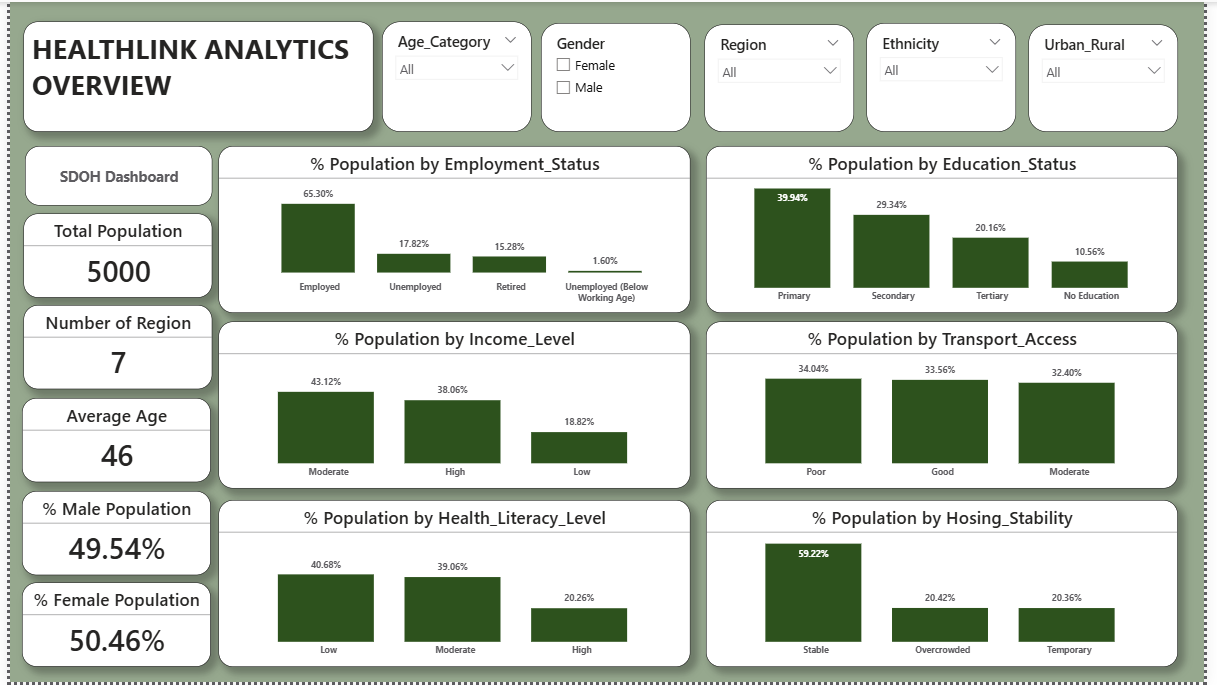

The page's visual inventory and layout, read from the dashboard file:
{"tool":"powerbi","page":{"name":"Overview","canvas":[1644,936],"ordinal":0},"visuals":[{"type":"textbox","box":[18,26,482,152],"z":0},{"type":"card","title":"Total Population","fields":{"Values":["Calculation.Total_Population"]},"box":[18,291.2,260,116],"z":1000},{"type":"card","title":"Number of Region","fields":{"Values":["Count(Health_Link1.Region)"]},"box":[18,418.4,260,116],"z":2000},{"type":"card","title":"Average Age","fields":{"Values":["Calculation.Average_Age"]},"box":[16,545.6,260,116],"z":3000},{"type":"card","title":"% Male Population","fields":{"Values":["Calculation.Male_Population(%)"]},"box":[16,672.8,260,116],"z":4000},{"type":"card","title":"% Female Population","fields":{"Values":["Calculation.Female_Population(%)"]},"box":[16,800,260,116],"z":5000},{"type":"columnChart","title":"% Population by Employment_Status","fields":{"Category":["Health_Link1.Employment_Status"],"Y":["CountNonNull(Health_Link1.Id)"]},"box":[287.4,198.3,650,230],"z":6000},{"type":"columnChart","title":"% Population by Education_Status","fields":{"Category":["Health_Link1.Educational_Status"],"Y":["CountNonNull(Health_Link1.Id)"]},"box":[958,198.3,650,230],"z":7000},{"type":"columnChart","title":"% Population by Income_Level","fields":{"Category":["Health_Link1.Income_Level"],"Y":["CountNonNull(Health_Link1.Id)"]},"box":[288,440,650,230],"z":8000},{"type":"columnChart","title":"% Population by Transport_Access","fields":{"Category":["Health_Link1.Transport_Access"],"Y":["CountNonNull(Health_Link1.Id)"]},"box":[958,440,650,230],"z":9000},{"type":"columnChart","title":"% Population by Health_Literacy_Level","fields":{"Category":["Health_Link1.Health_Literacy"],"Y":["CountNonNull(Health_Link1.Id)"]},"box":[288,685,650,230],"z":10000},{"type":"columnChart","title":"% Population by Hosing_Stability","fields":{"Category":["Health_Link1.Housing_Stability"],"Y":["CountNonNull(Health_Link1.Id)"]},"box":[958,685,650,230],"z":11000},{"type":"slicer","fields":{"Values":["Health_Link1.Age_Category"]},"box":[512,26,206,152],"z":12000},{"type":"slicer","fields":{"Values":["Health_Link1.Gender"]},"box":[732,28,206,150],"z":13000},{"type":"slicer","fields":{"Values":["Health_Link1.Region"]},"box":[956,30,206,148],"z":14000},{"type":"slicer","fields":{"Values":["Health_Link1.Ethnicity"]},"box":[1180,28,206,150],"z":15000},{"type":"slicer","fields":{"Values":["Health_Link1.Urban_Rural"]},"box":[1402,30,206,148],"z":16000},{"type":"actionButton","box":[20,198,258,82],"z":17000}]}

Visuals, with their boxes in screenshot pixels (x1, y1, x2, y2), scaled from the page's 1644x936 canvas onto the 1217x685 screenshot:
textbox: (x1=13, y1=19, x2=370, y2=130)
"Total Population" card: (x1=13, y1=213, x2=206, y2=298)
"Number of Region" card: (x1=13, y1=306, x2=206, y2=391)
"Average Age" card: (x1=12, y1=399, x2=204, y2=484)
"% Male Population" card: (x1=12, y1=492, x2=204, y2=577)
"% Female Population" card: (x1=12, y1=585, x2=204, y2=670)
"% Population by Employment_Status" columnChart: (x1=213, y1=145, x2=694, y2=313)
"% Population by Education_Status" columnChart: (x1=709, y1=145, x2=1190, y2=313)
"% Population by Income_Level" columnChart: (x1=213, y1=322, x2=694, y2=490)
"% Population by Transport_Access" columnChart: (x1=709, y1=322, x2=1190, y2=490)
"% Population by Health_Literacy_Level" columnChart: (x1=213, y1=501, x2=694, y2=670)
"% Population by Hosing_Stability" columnChart: (x1=709, y1=501, x2=1190, y2=670)
slicer - Health_Link1.Age_Category: (x1=379, y1=19, x2=532, y2=130)
slicer - Health_Link1.Gender: (x1=542, y1=20, x2=694, y2=130)
slicer - Health_Link1.Region: (x1=708, y1=22, x2=860, y2=130)
slicer - Health_Link1.Ethnicity: (x1=874, y1=20, x2=1026, y2=130)
slicer - Health_Link1.Urban_Rural: (x1=1038, y1=22, x2=1190, y2=130)
actionButton: (x1=15, y1=145, x2=206, y2=205)
